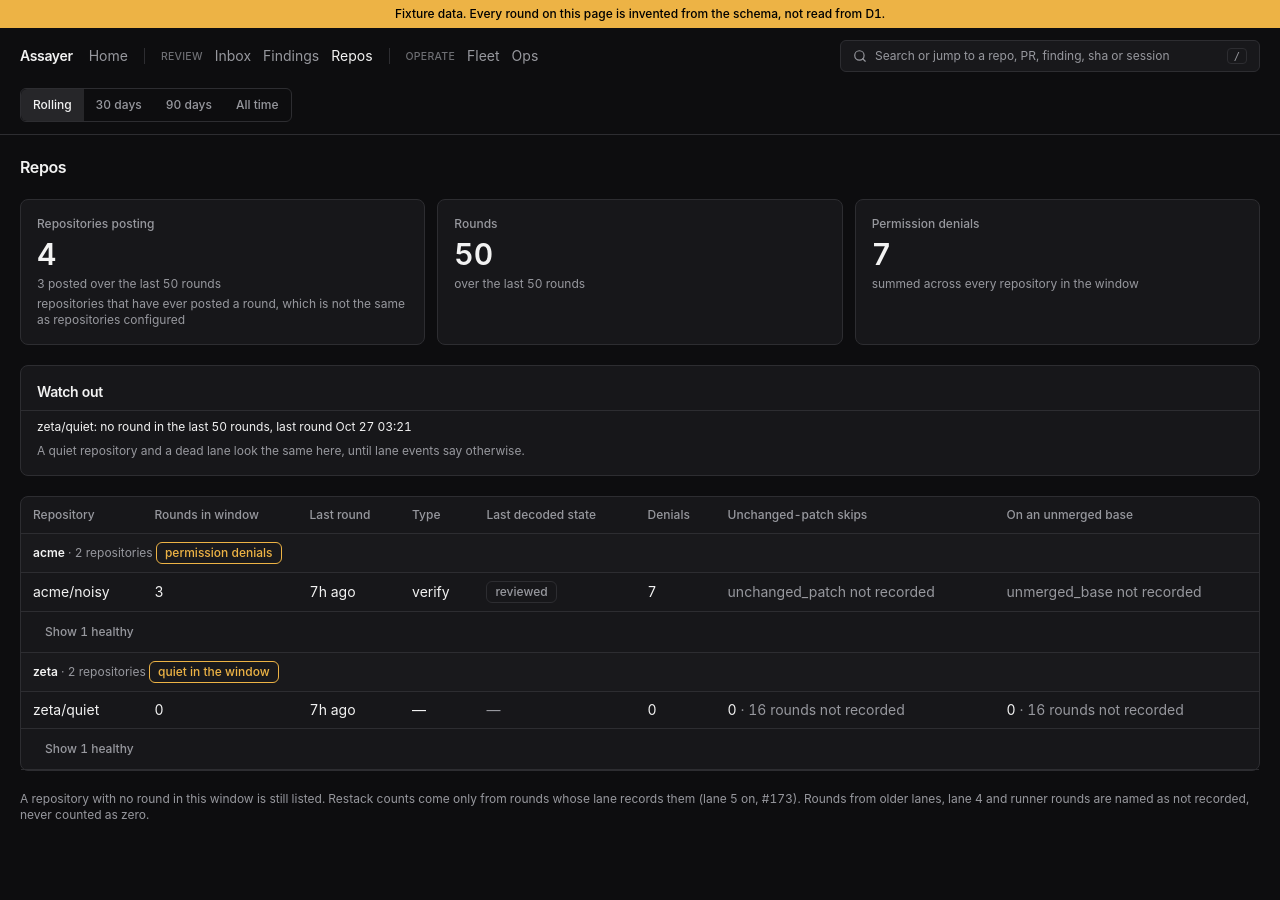
/repos › groups repositories by owner, worst first, and folds the healthy ones (#185)
The image size is (1280, 900).
expect the text "acme/ok" is not shown: met
Click the 1st button "Show 1 healthy": (89, 632) [33,616,146,648]
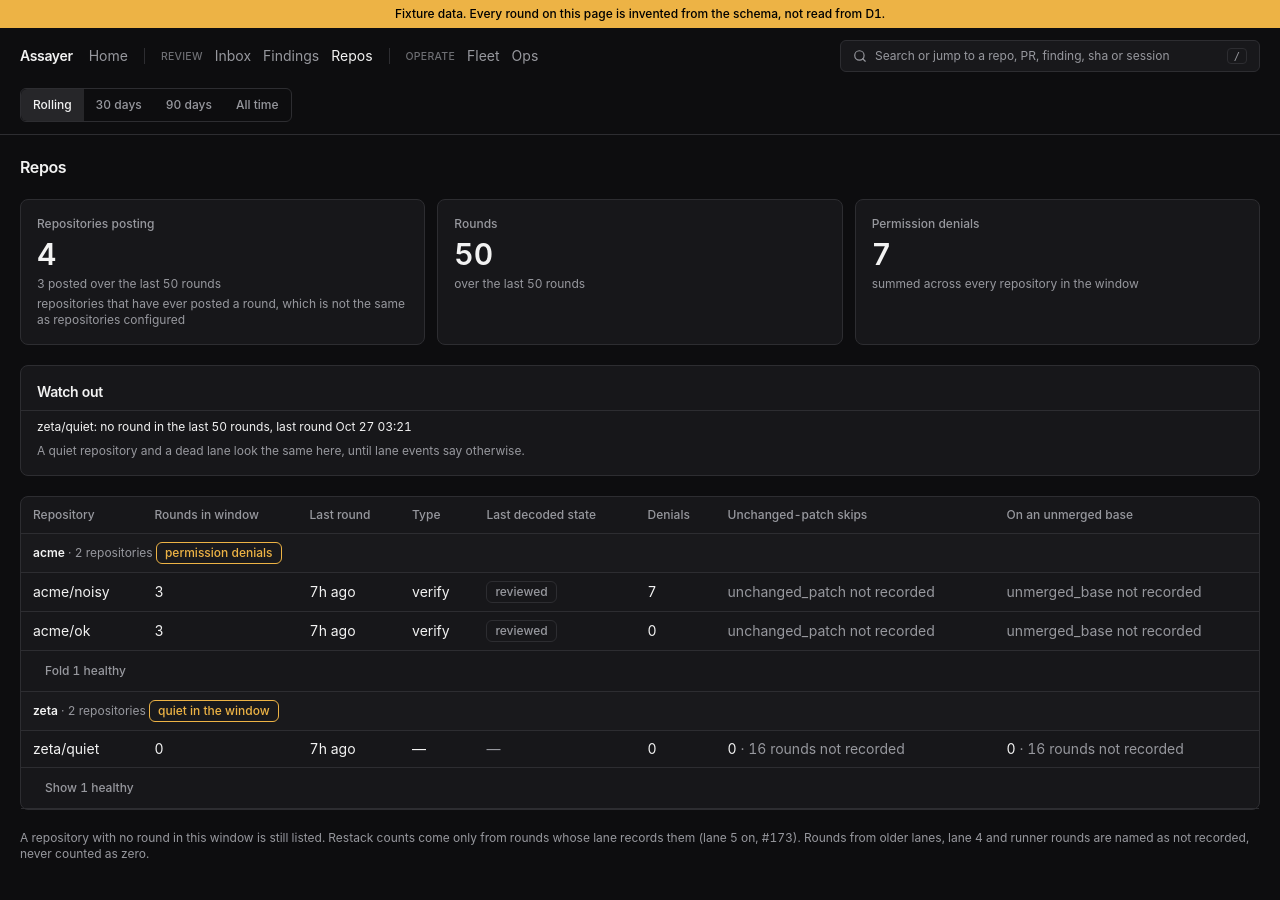
expect the link "acme/ok" is shown: met, box [33,622,90,638]
